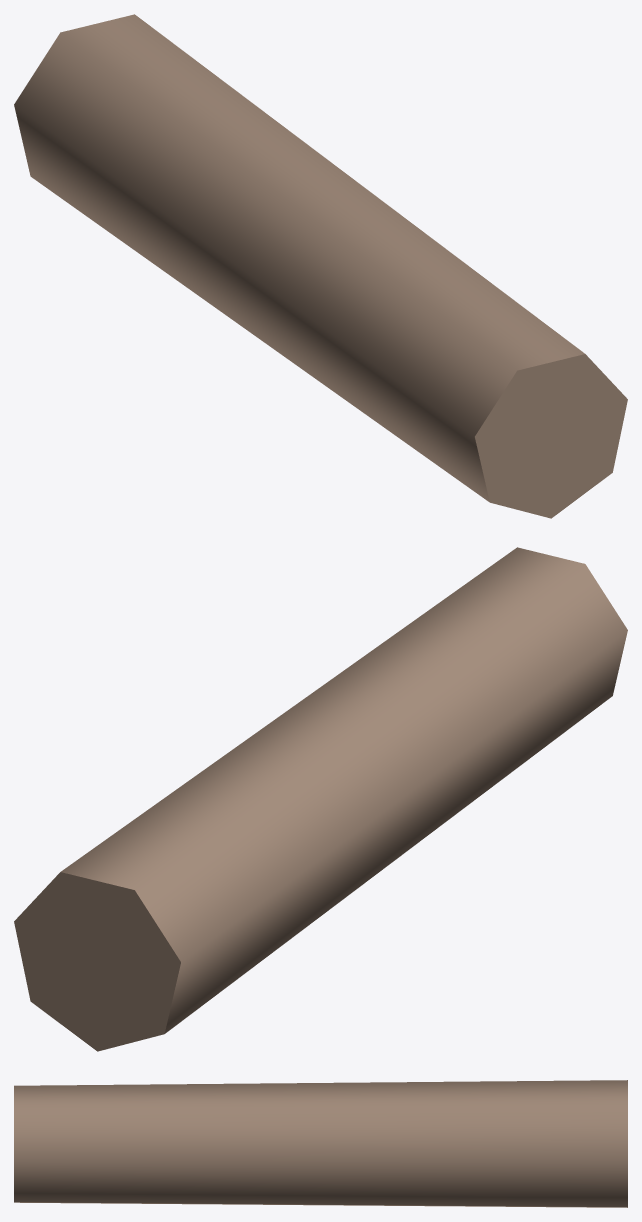
The model's file is log-fallen.gltf.
3 renders of one model, top to bottom at view 1: azimuth 30°, elevation 25°; view 2: azimuth 150°, elevation 25°; view 3: azimuth 270°, elevation 25°, orthographic. The views are drawn at different scales.
Parts seen in each view (by area): view 1: Log; view 2: Log; view 3: Log.
Boxes of the visible parts, x1,y1,x2,y2 form: Log: [14, 14, 627, 518]; Log: [14, 547, 627, 1051]; Log: [14, 1080, 627, 1207].
Bounding box in the file's own units: 0.468 × 0.4562 × 2.2.
